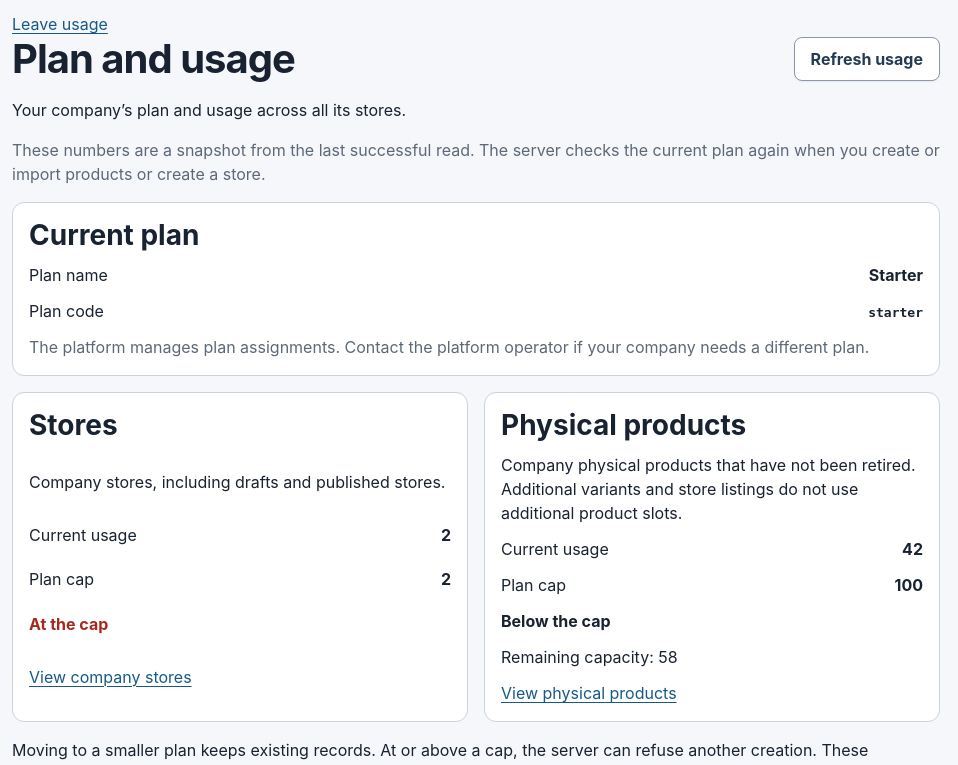
hides the snapshot on refresh status 401 and offers fixed auth recovery
Expected: the text "Starter" is shown, [869,263,923,287]
Click the button "Refresh usage".
click(867, 59)  # box [794,37,940,81]
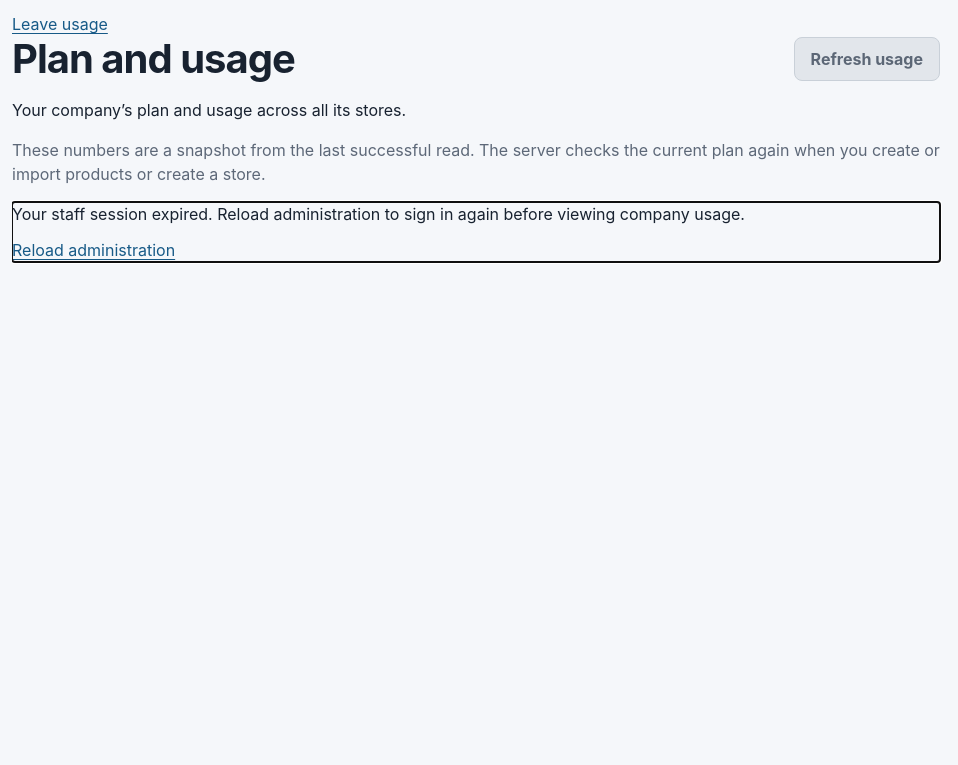
Expected: the text "Your staff session expired. Reload administration to sign in again before viewing company usage." is shown, [12,204,745,224]
Expected: the text "Starter" is gone
